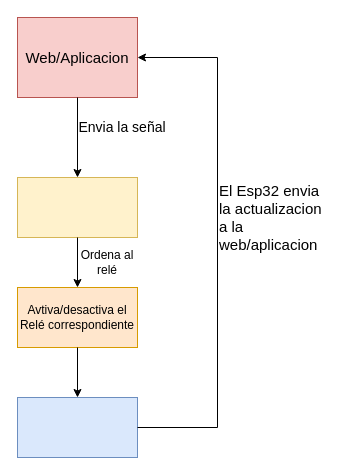
The diagram is 345 pixels wide and 475 high, and some of its shapes have lost their labels. Here are the shapes that lost their labels. From the top down, the box of each, then its label:
(16, 176, 138, 238): Esp32
(16, 396, 138, 458): actualiza la web/celular
